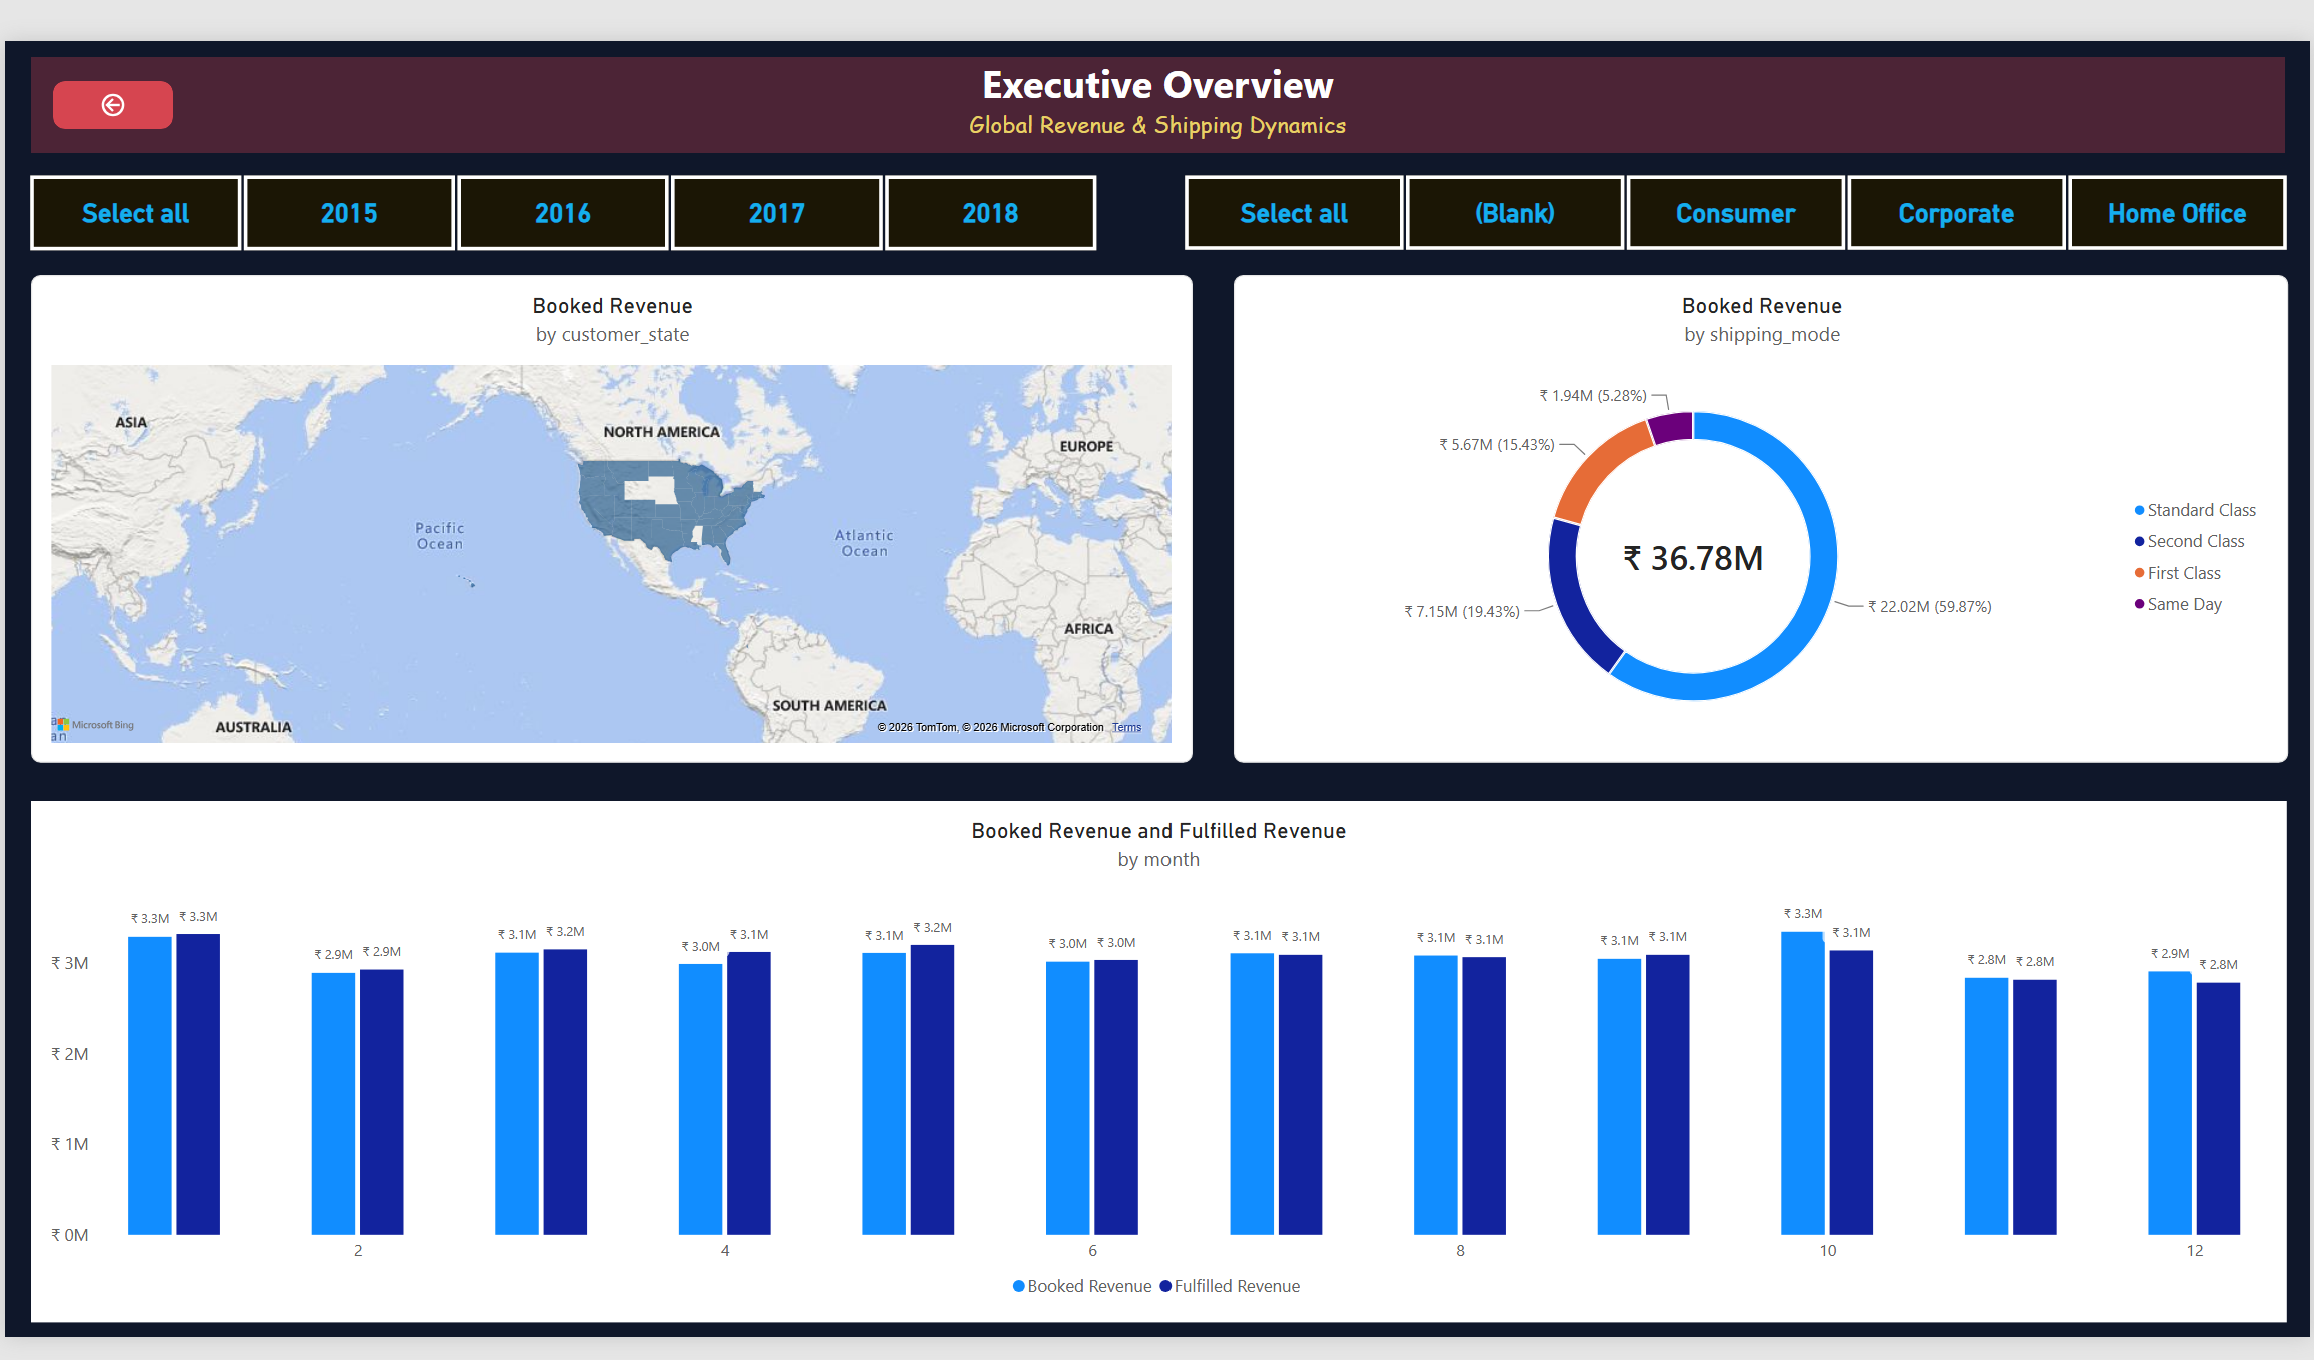

This screenshot's page, from the dashboard's own definition file:
{"tool":"powerbi","page":{"name":"Executive Overview","canvas":[1920,1080],"ordinal":1},"visuals":[{"type":"lineClusteredColumnComboChart","fields":{"Category":["dim_date.month","dim_date.Year"],"Y":["_measure.Booked Revenue","_measure.Fulfilled Revenue"]},"box":[22.3,633.2,1879.1,434.5],"z":0},{"type":"donutChart","fields":{"Category":["dim_carriers.shipping_mode"],"Y":["_measure.Booked Revenue"]},"box":[1023.1,195,878.3,406.7],"z":1000},{"type":"filledMap","fields":{"Category":["dim_customers.customer_state","dim_customers.customer_city"]},"box":[22.3,195,967.4,406.7],"z":2000},{"type":"slicer","fields":{"Values":["dim_date.Year"]},"box":[0,110,928.3,66.7],"z":3000},{"type":"slicer","fields":{"Values":["dim_customers.customer_segment"]},"box":[962,110,958,66],"z":4000},{"type":"textbox","box":[22.3,13,1877.3,79.8],"z":5000},{"type":"actionButton","box":[40,34,100,40],"z":6000}]}

Visuals, with their boxes on the page's 1920x1080 design canvas (x1, y1, x2, y2). These are canvas units, not pixel positions in the 2314x1360 screenshot, which may show the page scaled, cropped or inside an application window:
lineClusteredColumnComboChart - dim_date.month x dim_date.Year: <region>22, 633, 1901, 1068</region>
donutChart - dim_carriers.shipping_mode x _measure.Booked Revenue: <region>1023, 195, 1901, 602</region>
filledMap - dim_customers.customer_state x dim_customers.customer_city: <region>22, 195, 990, 602</region>
slicer - dim_date.Year: <region>0, 110, 928, 177</region>
slicer - dim_customers.customer_segment: <region>962, 110, 1920, 176</region>
textbox: <region>22, 13, 1900, 93</region>
actionButton: <region>40, 34, 140, 74</region>
